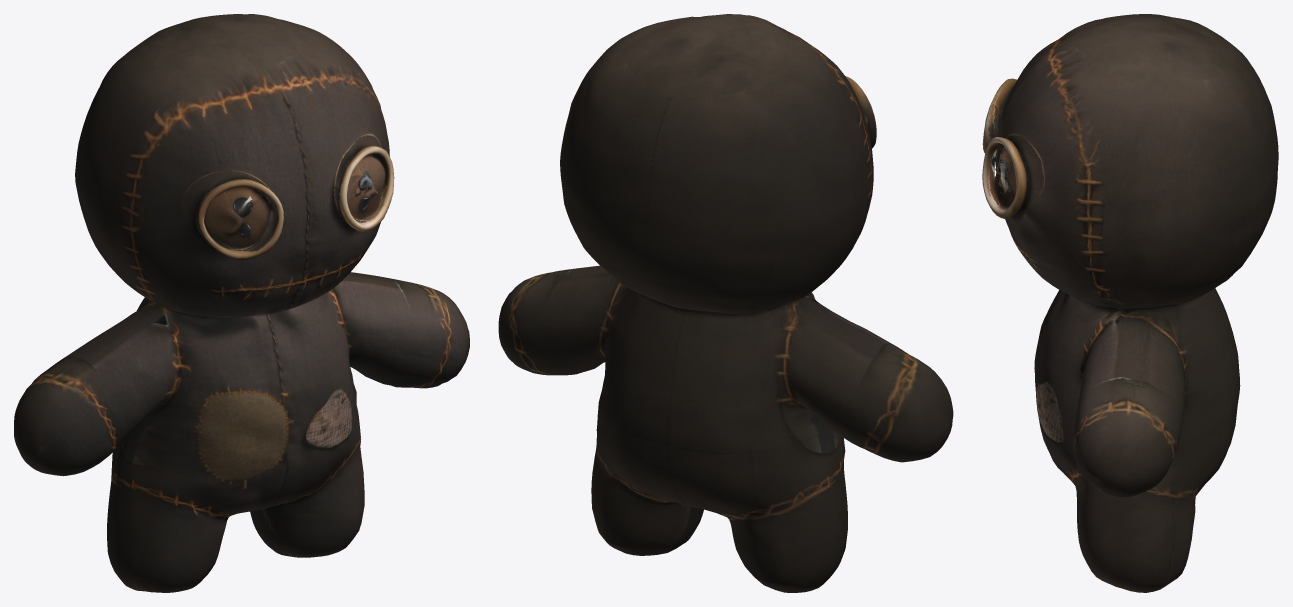
The model's file is DollWithTexture.fbx.
3 renders of one model, left to right at view 1: azimuth 30°, elevation 25°; view 2: azimuth 150°, elevation 25°; view 3: azimuth 270°, elevation 25°, orthographic. The views are drawn at different scales.
Visible parts, largest first — view 1: input; view 2: input; view 3: input.
Boxes of the visible parts, left/top/right/bottom form: input: left=14, top=14, right=469, bottom=592; input: left=498, top=14, right=953, bottom=592; input: left=982, top=14, right=1278, bottom=592.
Size of the model in its own units: 173 by 200 by 104.
